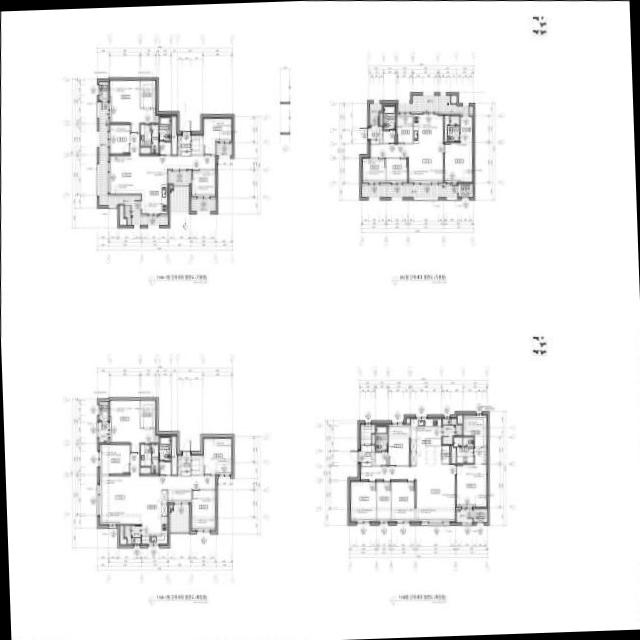background: (0, 0, 640, 640)
space_balconi: (98, 101, 167, 224), (397, 95, 472, 114), (361, 184, 457, 197), (169, 506, 188, 531), (169, 186, 188, 211), (123, 525, 140, 543), (190, 198, 215, 210), (369, 103, 381, 124), (169, 171, 188, 183), (456, 509, 472, 522), (98, 421, 107, 441), (217, 143, 231, 155)
space_bedroom: (109, 400, 154, 452), (109, 80, 154, 132), (456, 447, 486, 506), (444, 142, 471, 181), (349, 481, 375, 520), (203, 437, 231, 473), (203, 117, 231, 153), (191, 490, 215, 529), (391, 481, 414, 520), (99, 444, 128, 473), (388, 424, 408, 464), (191, 170, 215, 196), (362, 158, 385, 182), (109, 124, 128, 153), (386, 158, 406, 182)
space_dressroom: (463, 415, 486, 446), (140, 400, 155, 427), (140, 80, 155, 107), (460, 116, 471, 142)
space_front: (358, 444, 374, 466), (177, 133, 190, 155), (177, 455, 190, 475), (370, 126, 382, 143)
space_kitchen: (410, 418, 440, 465), (141, 489, 166, 543), (141, 170, 166, 213), (412, 114, 442, 143)
space_living_room: (99, 453, 215, 523), (107, 132, 215, 194), (359, 464, 454, 520), (370, 143, 442, 182)
space_other: (376, 481, 390, 520), (396, 114, 411, 142), (167, 488, 190, 501), (359, 424, 374, 443), (191, 134, 202, 153), (191, 455, 202, 473), (171, 436, 176, 474), (171, 116, 176, 154), (158, 461, 170, 474), (158, 141, 170, 154), (375, 452, 387, 464), (383, 130, 394, 142), (441, 445, 448, 463), (119, 525, 125, 544), (119, 205, 125, 224), (444, 115, 448, 141), (451, 445, 455, 462), (139, 147, 149, 153), (457, 414, 462, 423), (450, 95, 456, 102), (379, 113, 382, 124), (371, 434, 374, 443), (155, 434, 157, 442), (155, 114, 157, 122), (406, 418, 409, 423), (169, 504, 171, 507), (169, 185, 171, 187)
space_outdoor_room: (473, 508, 486, 522), (458, 183, 472, 196), (98, 401, 107, 420), (98, 81, 107, 100)
space_toilet: (139, 443, 157, 473), (442, 418, 462, 444), (453, 436, 473, 462), (140, 124, 157, 153), (158, 116, 170, 140), (158, 436, 170, 460), (447, 115, 458, 141), (375, 425, 386, 450), (383, 105, 394, 129)
